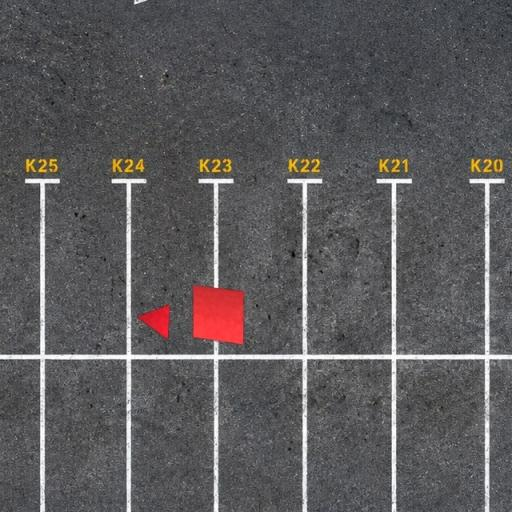RED_SQUARE: (192, 284, 245, 346)
